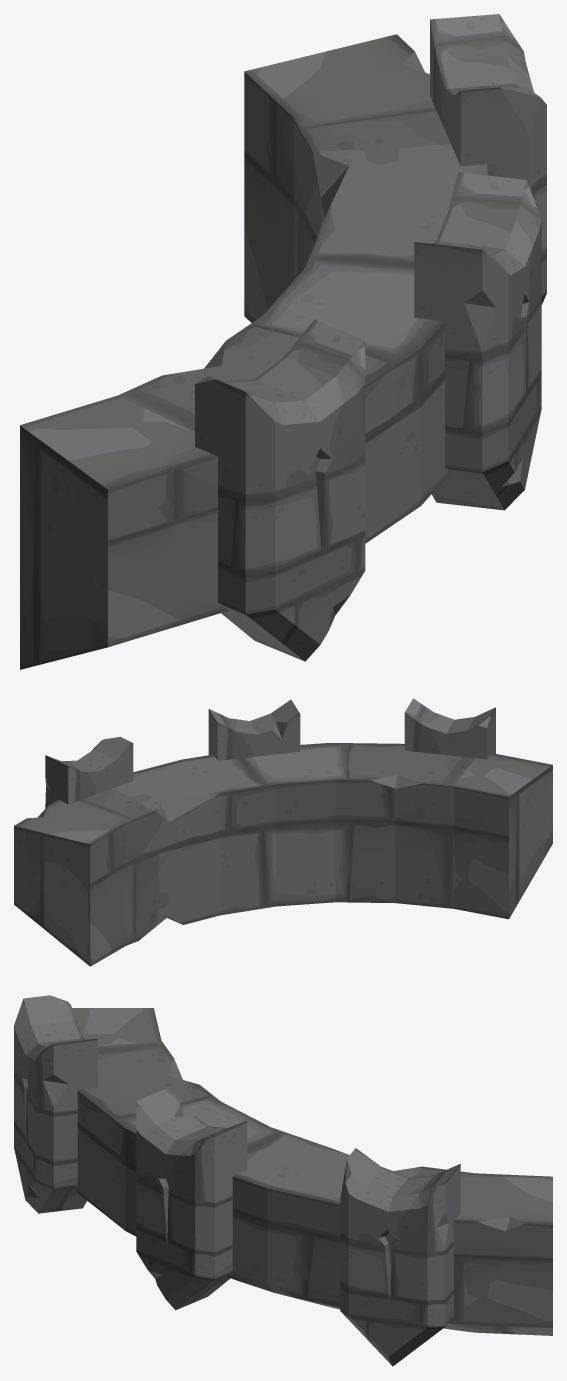
Rendered from SM_Bld_Battlements_L_Curve_01.fbx.
The picture shows the model from 3 angles, top to bottom: view 1: azimuth 30°, elevation 25°; view 2: azimuth 150°, elevation 25°; view 3: azimuth 270°, elevation 25°; orthographic projection. The views are drawn at different scales.
Parts seen in each view (by area): view 1: SM_Bld_Battlements_L_Curve_01; view 2: SM_Bld_Battlements_L_Curve_01; view 3: SM_Bld_Battlements_L_Curve_01.
Boxes of the visible parts, box(x1,y1,x2,y2) form: SM_Bld_Battlements_L_Curve_01: box(20, 14, 546, 669); SM_Bld_Battlements_L_Curve_01: box(14, 698, 552, 966); SM_Bld_Battlements_L_Curve_01: box(14, 995, 552, 1366).
Bounding box in the file's own units: 474 × 203 × 476.
1 material, 1 textured.
